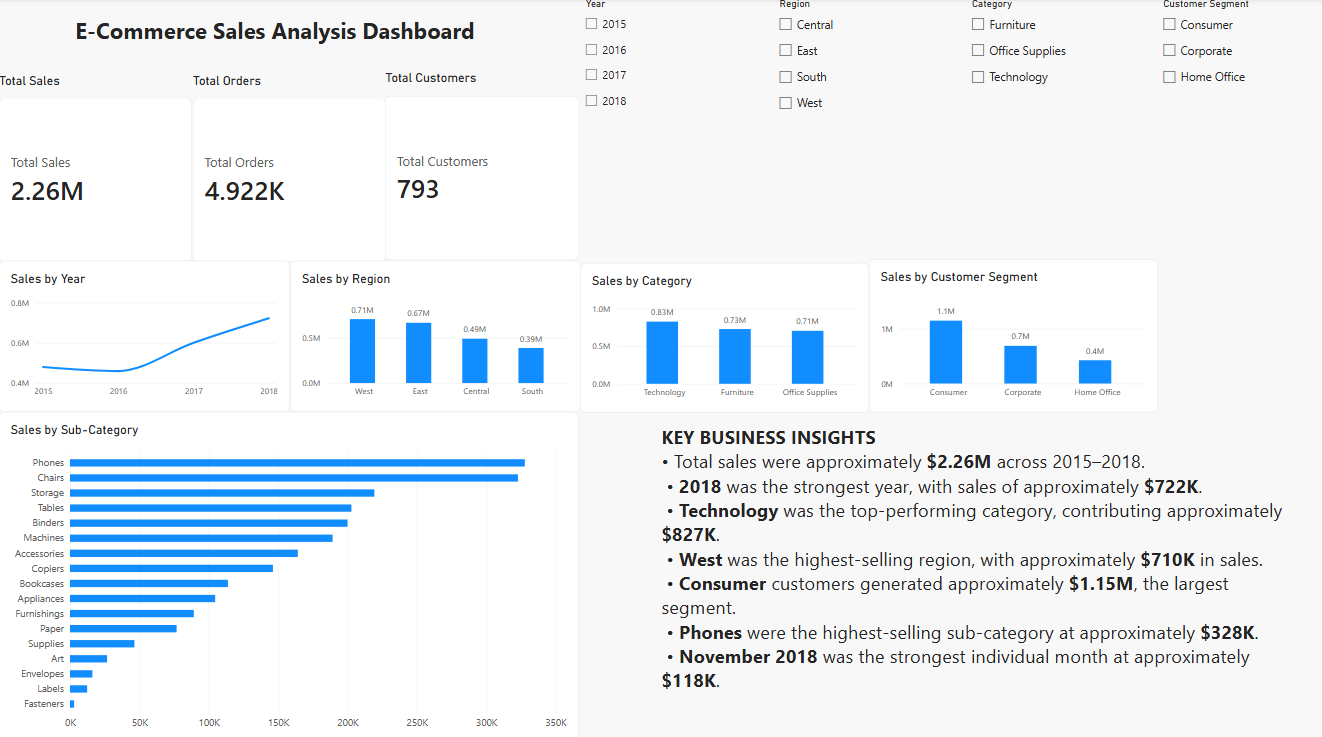

Layout of this report page (visuals, bound fields, positions):
{"tool":"powerbi","page":{"name":"Page 1","canvas":[1920,1080],"ordinal":0},"visuals":[{"type":"cardVisual","title":"Total Sales","fields":{"Data":["Sum(Sheet1.Sales)"]},"box":[0,108.3,279.7,274.6],"z":1},{"type":"cardVisual","title":"Total Orders","fields":{"Data":["Count(Sheet1.Order ID)"]},"box":[279.7,108.3,280,274],"z":2},{"type":"cardVisual","title":"Total Customers","fields":{"Data":["Count(Sheet1.Customer ID)"]},"box":[559.4,105.8,280,275],"z":3},{"type":"lineChart","title":"Sales by Year","fields":{"Category":["Sheet1.Order Date.Variation.Date Hierarchy.Year"],"Y":["Sum(Sheet1.Sales)"]},"box":[0,380.5,420.8,219.2],"z":4},{"type":"clusteredColumnChart","title":"Sales by Category","fields":{"Category":["Sheet1.Category"],"Y":["Sum(Sheet1.Sales)"]},"box":[841.6,383,418.3,216.7],"z":5},{"type":"clusteredColumnChart","title":"Sales by Region","fields":{"Category":["Sheet1.Region"],"Y":["Sum(Sheet1.Sales)"]},"box":[420.8,380.5,420.8,219.2],"z":6},{"type":"clusteredColumnChart","title":"Sales by Customer Segment","fields":{"Category":["Sheet1.Segment"],"Y":["Sum(Sheet1.Sales)"]},"box":[1259.8,378,418.3,221.7],"z":9},{"type":"clusteredBarChart","title":"Sales by Sub-Category","fields":{"Category":["Sheet1.Sub-Category"],"Y":["Sum(Sheet1.Sales)"]},"box":[0,599.7,839.1,481.3],"z":10},{"type":"textbox","box":[40.3,0,279.7,138.6],"z":11},{"type":"slicer","fields":{"Values":["Sheet1.Order Date.Variation.Date Hierarchy.Year"]},"box":[841.6,0,279.7,274.6],"z":12},{"type":"slicer","fields":{"Values":["Sheet1.Region"]},"box":[1121.3,0,280,275],"z":13},{"type":"slicer","fields":{"Values":["Sheet1.Category"]},"box":[1400.9,0,241.9,274.6],"z":14},{"type":"slicer","title":"Customer Segment","fields":{"Values":["Sheet1.Segment"]},"box":[1678.1,0,241.9,274.6],"z":15},{"type":"textbox","box":[960,617.3,912.1,440.9],"z":20}]}

Visuals, with their boxes in screenshot pixels (x1, y1, x2, y2), scaled from the page's 1920x1080 canvas onto the 1322x737 screenshot:
"Total Sales" cardVisual: <bbox>0, 74, 193, 261</bbox>
"Total Orders" cardVisual: <bbox>193, 74, 385, 261</bbox>
"Total Customers" cardVisual: <bbox>385, 72, 578, 260</bbox>
"Sales by Year" lineChart: <bbox>0, 260, 290, 409</bbox>
"Sales by Category" clusteredColumnChart: <bbox>579, 261, 867, 409</bbox>
"Sales by Region" clusteredColumnChart: <bbox>290, 260, 579, 409</bbox>
"Sales by Customer Segment" clusteredColumnChart: <bbox>867, 258, 1155, 409</bbox>
"Sales by Sub-Category" clusteredBarChart: <bbox>0, 409, 578, 736</bbox>
textbox: <bbox>28, 0, 220, 95</bbox>
slicer - Sheet1.Order Date.Variation.Date Hierarchy.Year: <bbox>579, 0, 772, 187</bbox>
slicer - Sheet1.Region: <bbox>772, 0, 965, 188</bbox>
slicer - Sheet1.Category: <bbox>965, 0, 1131, 187</bbox>
"Customer Segment" slicer: <bbox>1155, 0, 1321, 187</bbox>
textbox: <bbox>661, 421, 1289, 722</bbox>
